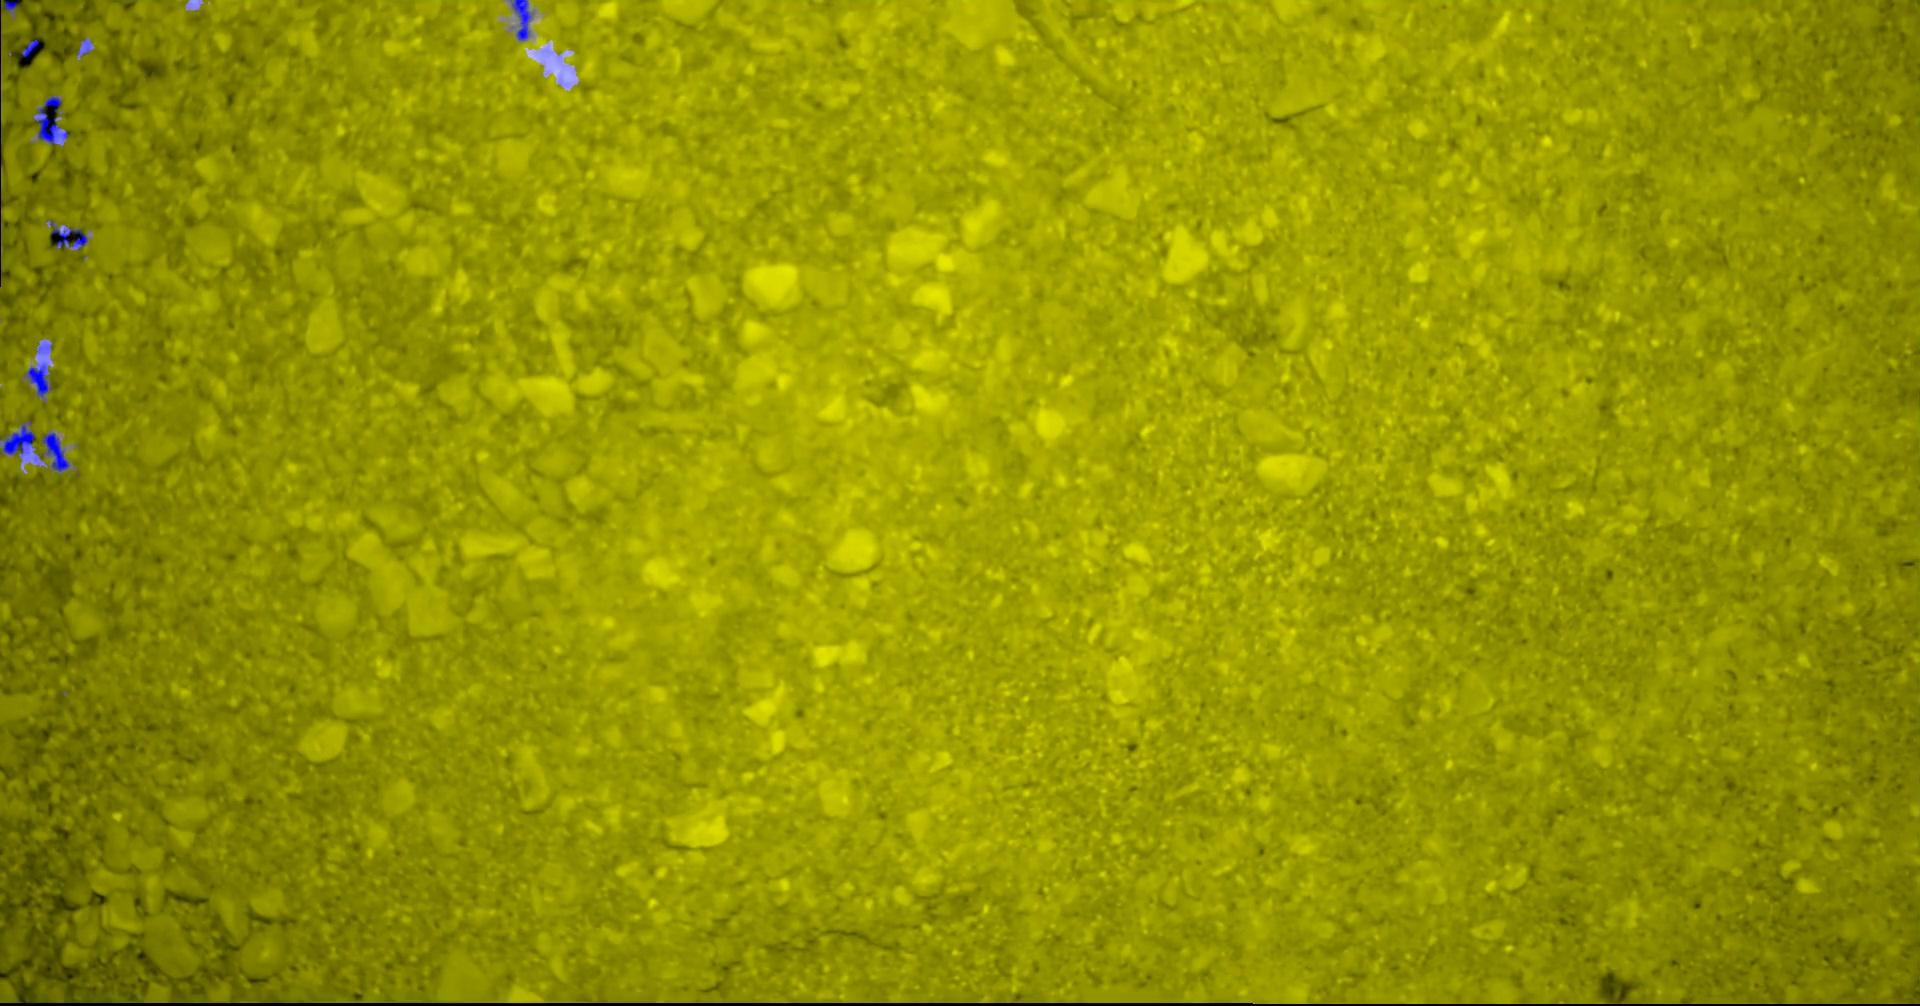ant: (34, 95, 69, 144), (0, 419, 34, 453), (50, 220, 88, 249), (41, 432, 69, 471), (25, 363, 51, 398), (510, 0, 531, 39), (22, 38, 39, 57), (0, 0, 17, 11)
